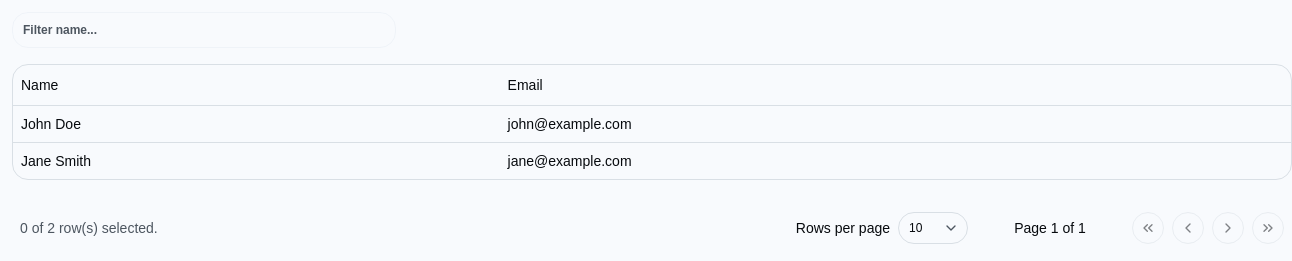
it: DataTable Component › filters data when searchKey is provided
The image size is (1292, 261).
Type "Jane" into the field with placeholder "Filter name...". click: (204, 30)
box: [12, 12, 396, 48]
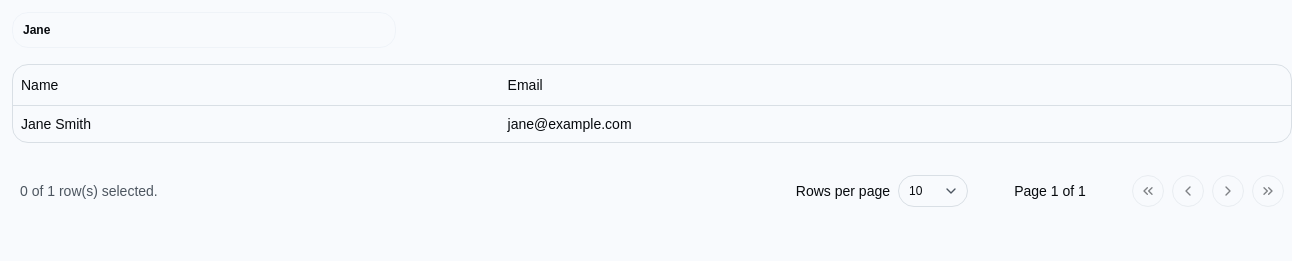
Expected: the text "Jane Smith" is shown, [13, 105, 500, 142]
Expected: the text "John Doe" is gone
